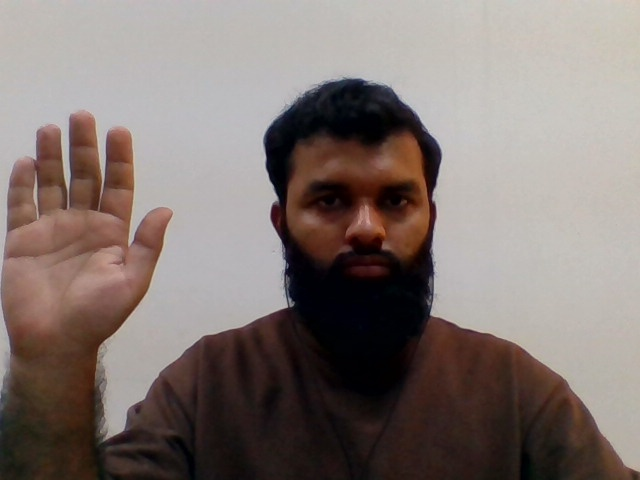Hello: (1, 104, 176, 353)
